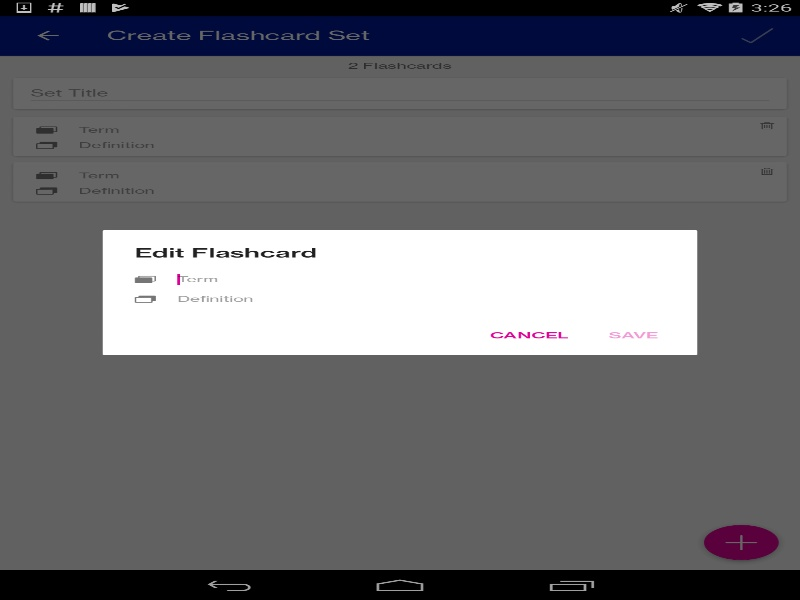Input: (177, 293, 665, 310), (177, 274, 665, 290)
